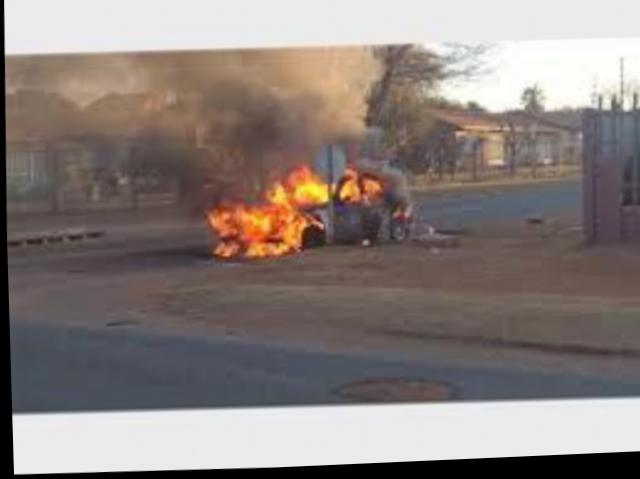fire: (193, 154, 390, 270)
